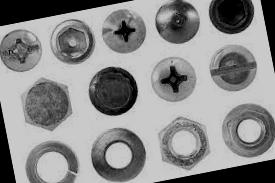hexagonal: (16, 71, 75, 135)
